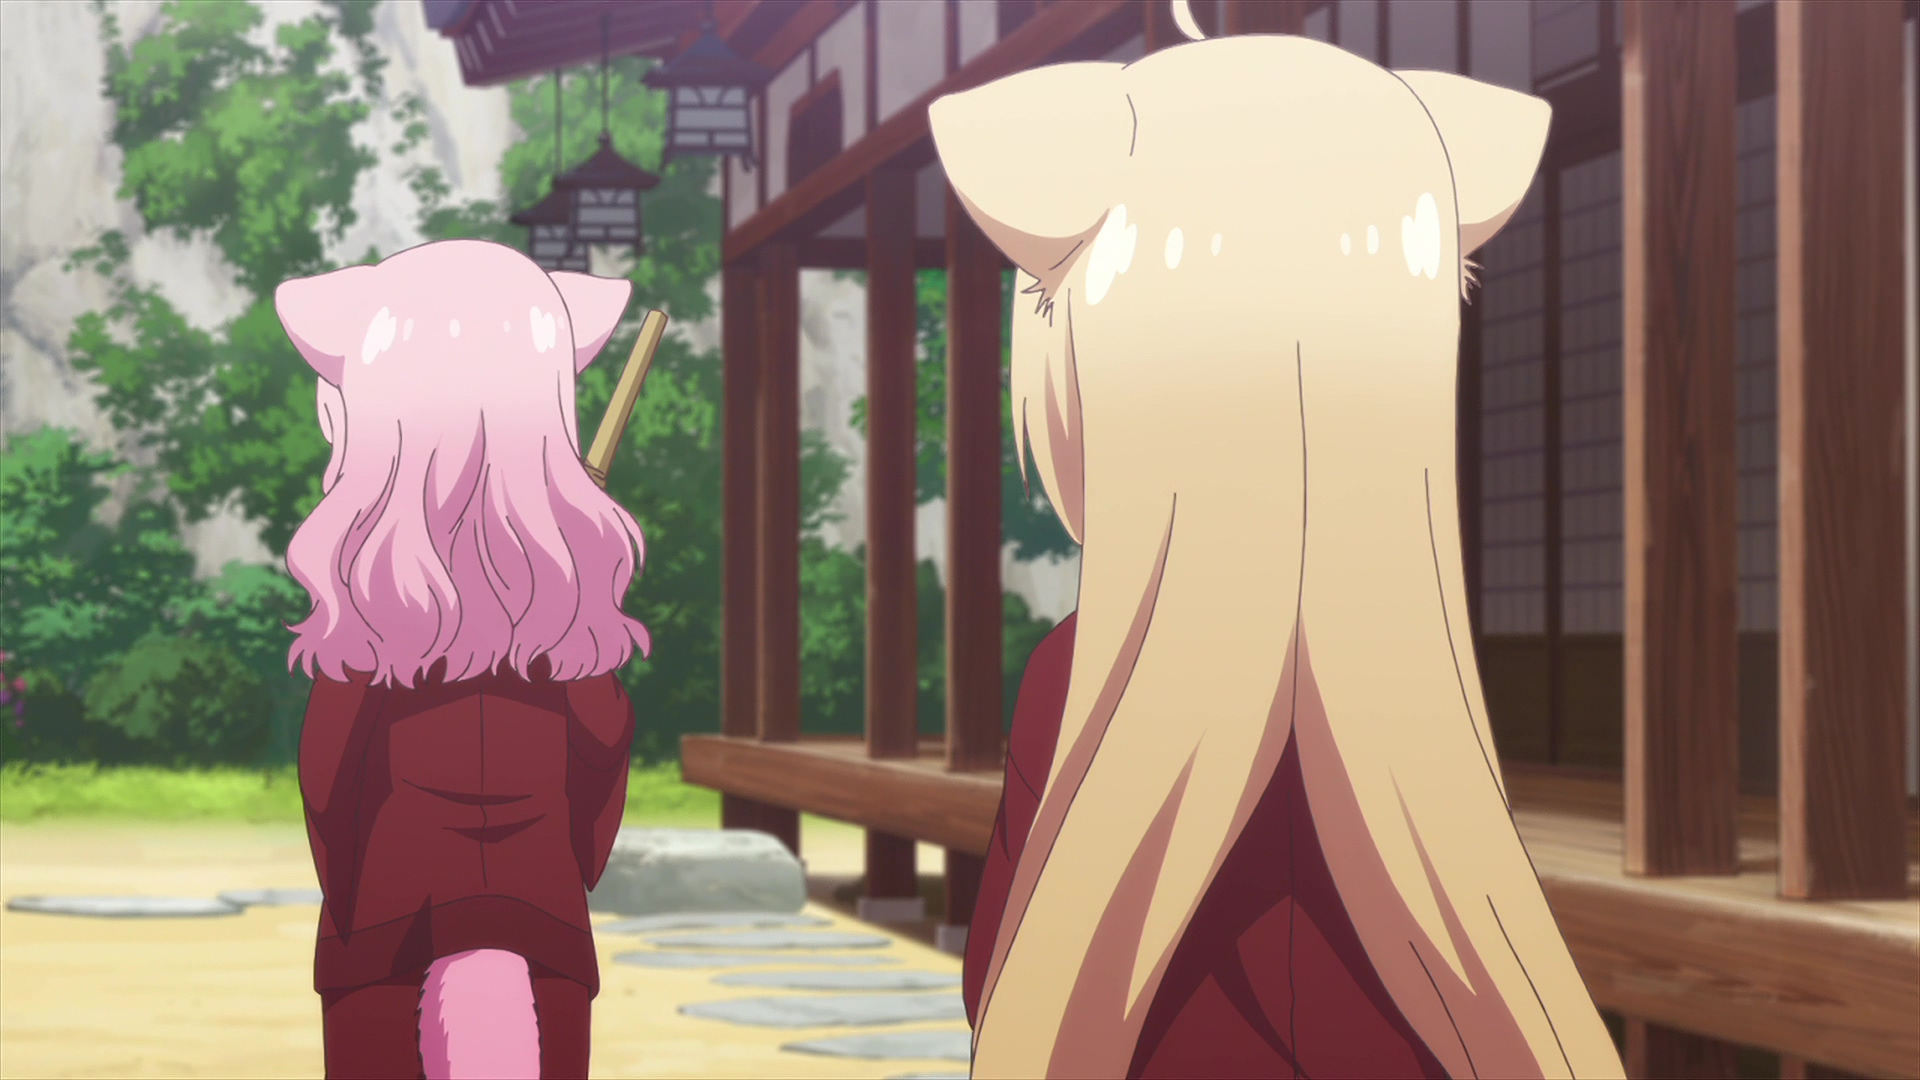柚: (930, 1, 1630, 1080)
莲: (276, 241, 666, 1080)
